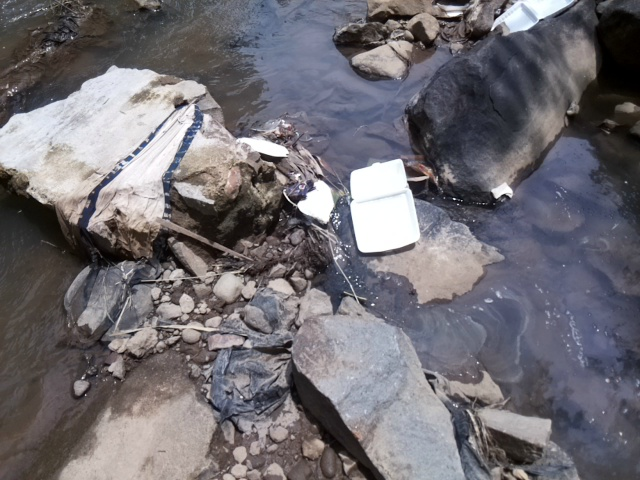Sampah_Styrofoam: (346, 157, 421, 254), (485, 1, 578, 36), (298, 176, 336, 222)
